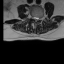CCS_normal: (35, 15, 36, 24)
LFS_normal: (38, 15, 41, 21)
LLS_normal: (36, 15, 38, 22)
RFS_normal: (31, 13, 33, 20)
RLS_normal: (33, 15, 35, 21)
